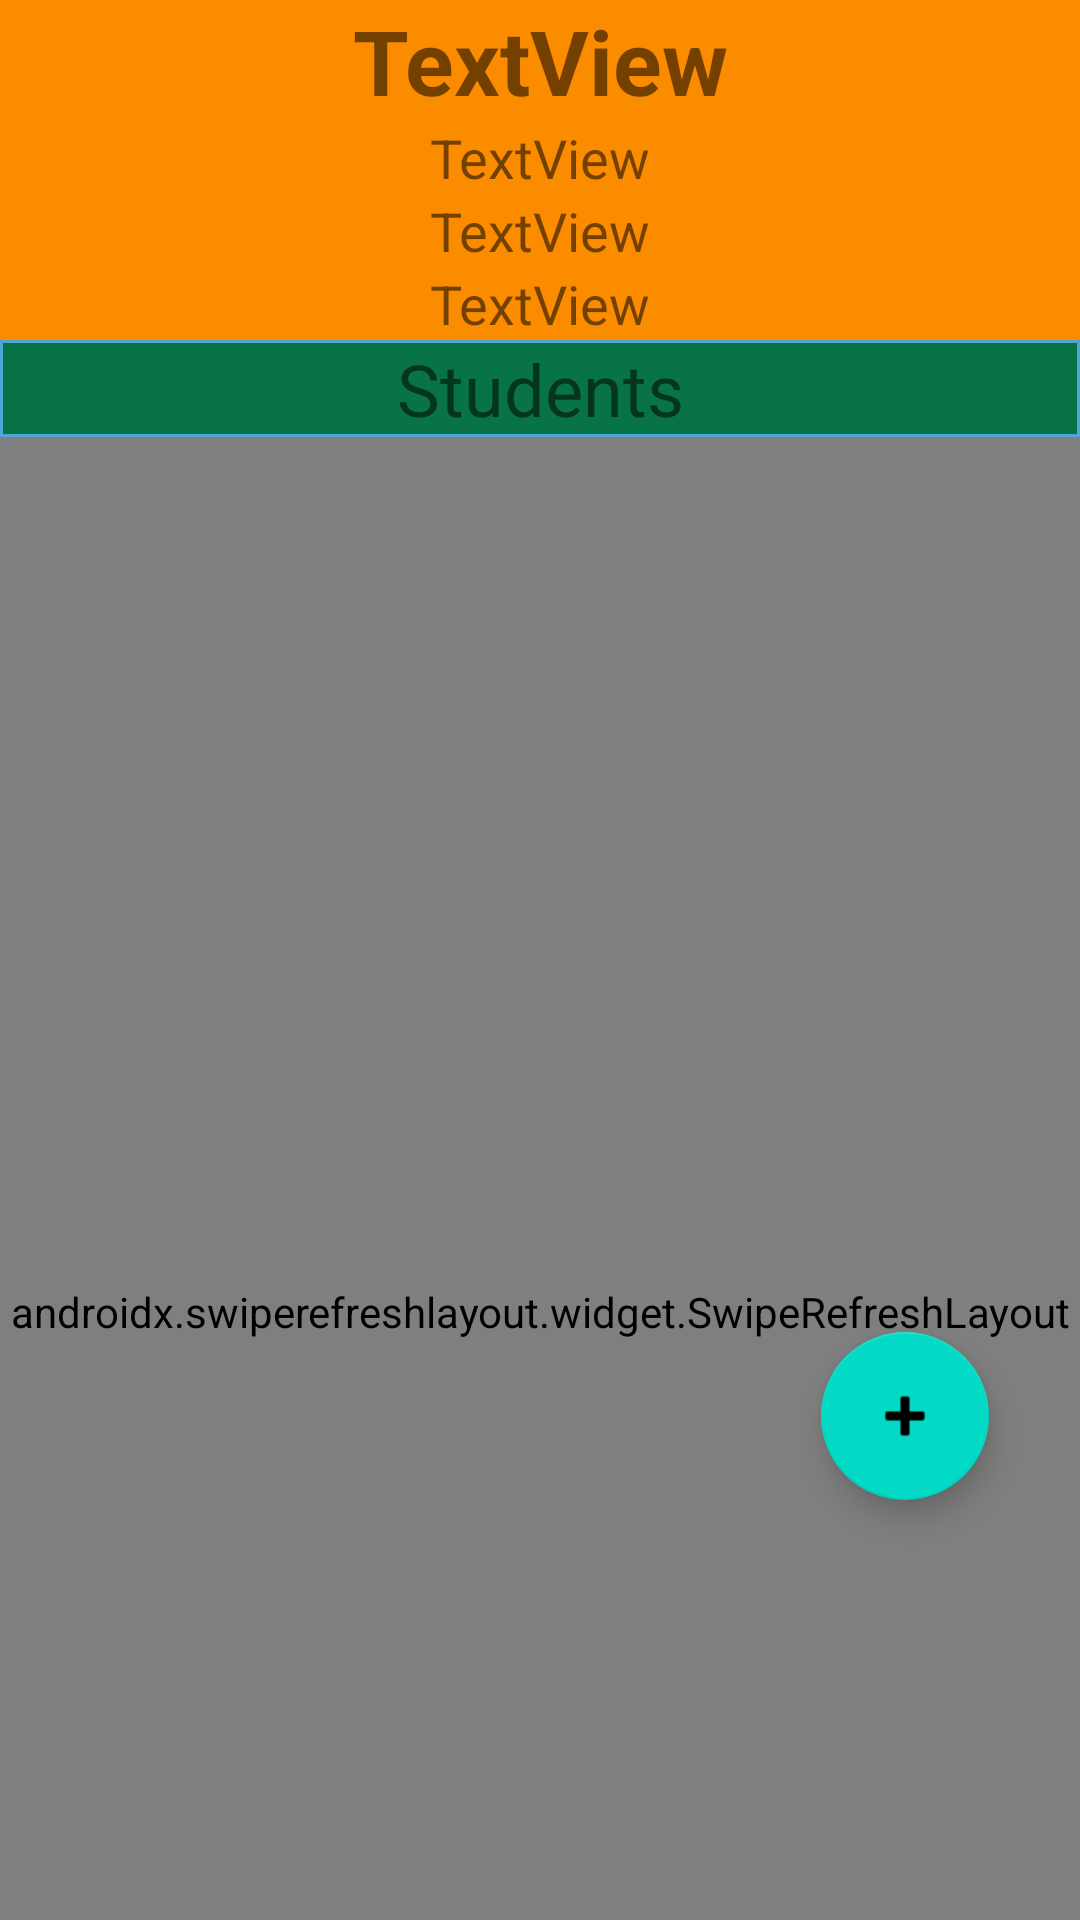

Where icons sit on this 1080 x 1920 app screen, as bbox=(x1, y1, x2, y2):
add: bbox=(821, 1332, 989, 1500)
